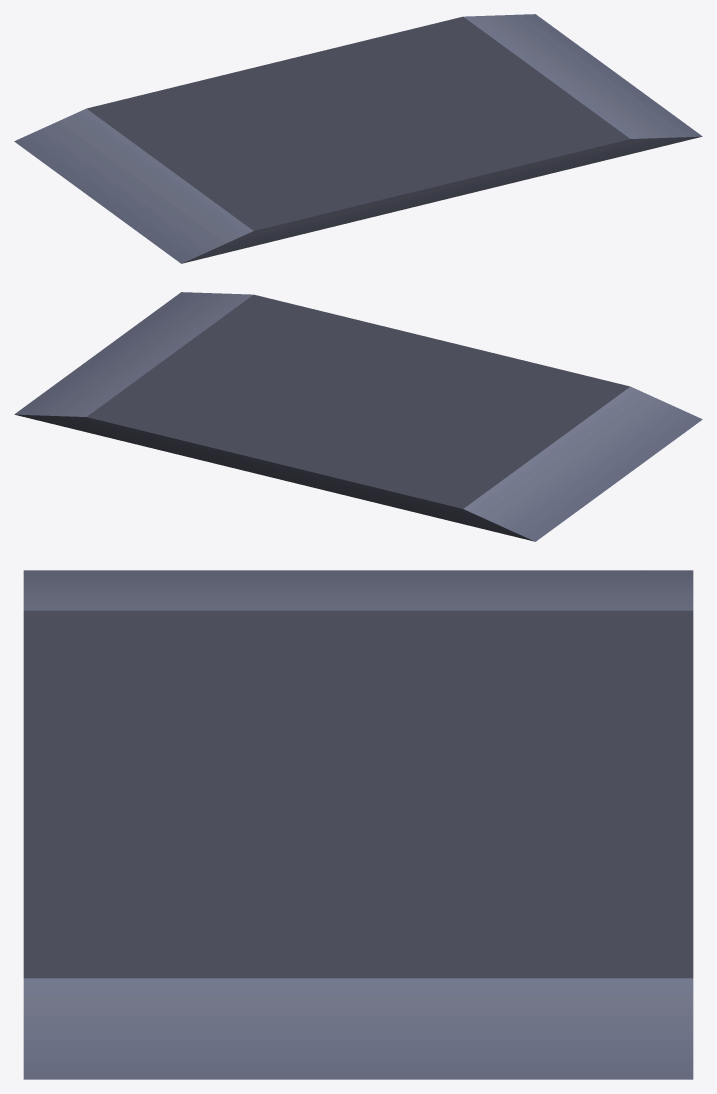
File: driveway-short.glb
3 views of the same model, one above another, from view 1: azimuth 30°, elevation 25°; view 2: azimuth 150°, elevation 25°; view 3: azimuth 270°, elevation 25° (orthographic). The views are drawn at different scales.
Parts seen in each view (by area): view 1: driveway-short; view 2: driveway-short; view 3: driveway-short.
Part boxes in pixels (x1,y1,x2,y2): driveway-short: (14, 14, 702, 263); driveway-short: (14, 292, 702, 541); driveway-short: (23, 570, 693, 1079).
Size of the model in its own units: 0.36 by 0.01 by 0.2.
Materials: 1 (1 with a texture image).
